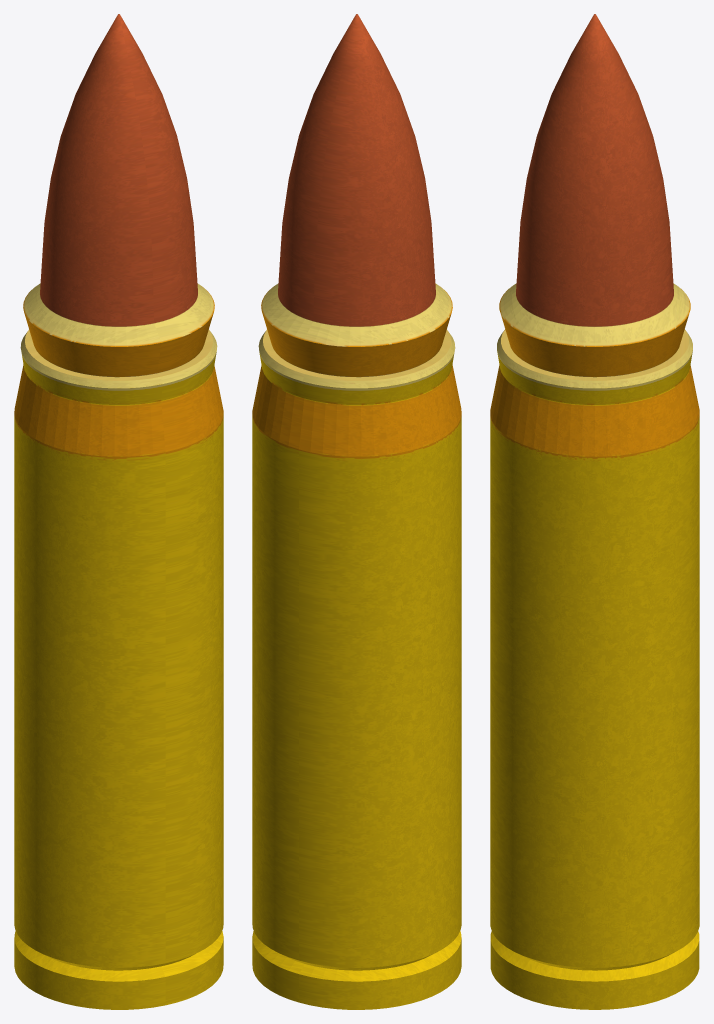
3 renders of one model, left to right at view 1: azimuth 30°, elevation 25°; view 2: azimuth 150°, elevation 25°; view 3: azimuth 270°, elevation 25°, orthographic.
Visible parts, largest first — view 1: Cylinder001; view 2: Cylinder001; view 3: Cylinder001.
Part boxes in pixels (<box>): Cylinder001: <box>14,14,223,1009</box>; Cylinder001: <box>252,14,461,1009</box>; Cylinder001: <box>490,14,699,1009</box>.
Size of the model in its own units: 22.38 by 114 by 22.34.
1 material, 1 textured.
